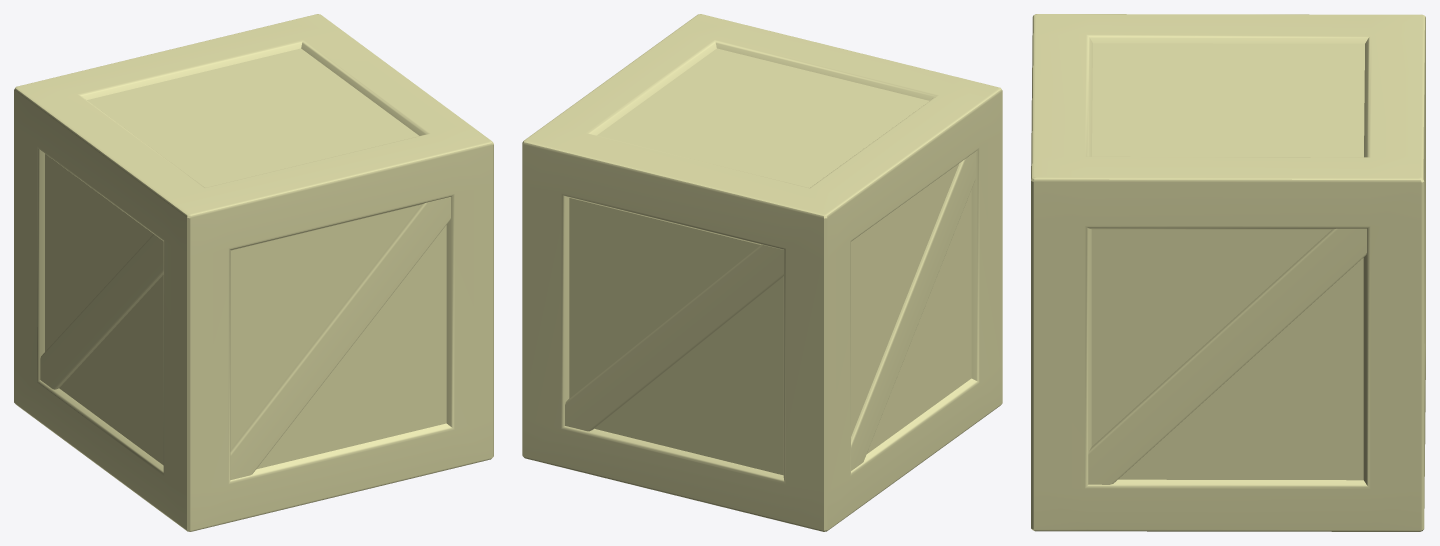
The model's file is Caixa 1.fbx.
The picture shows the model from 3 angles, left to right: view 1: azimuth 30°, elevation 25°; view 2: azimuth 150°, elevation 25°; view 3: azimuth 270°, elevation 25°; orthographic projection. The views are drawn at different scales.
Parts seen in each view (by area): view 1: CaixaQuad_ofc2; view 2: CaixaQuad_ofc2; view 3: CaixaQuad_ofc2.
Part boxes in pixels (x1,y1,x2,y2): CaixaQuad_ofc2: (14, 14, 493, 531); CaixaQuad_ofc2: (522, 14, 1002, 531); CaixaQuad_ofc2: (1031, 14, 1425, 531).
Size of the model in its own units: 100 by 98.74 by 100.
